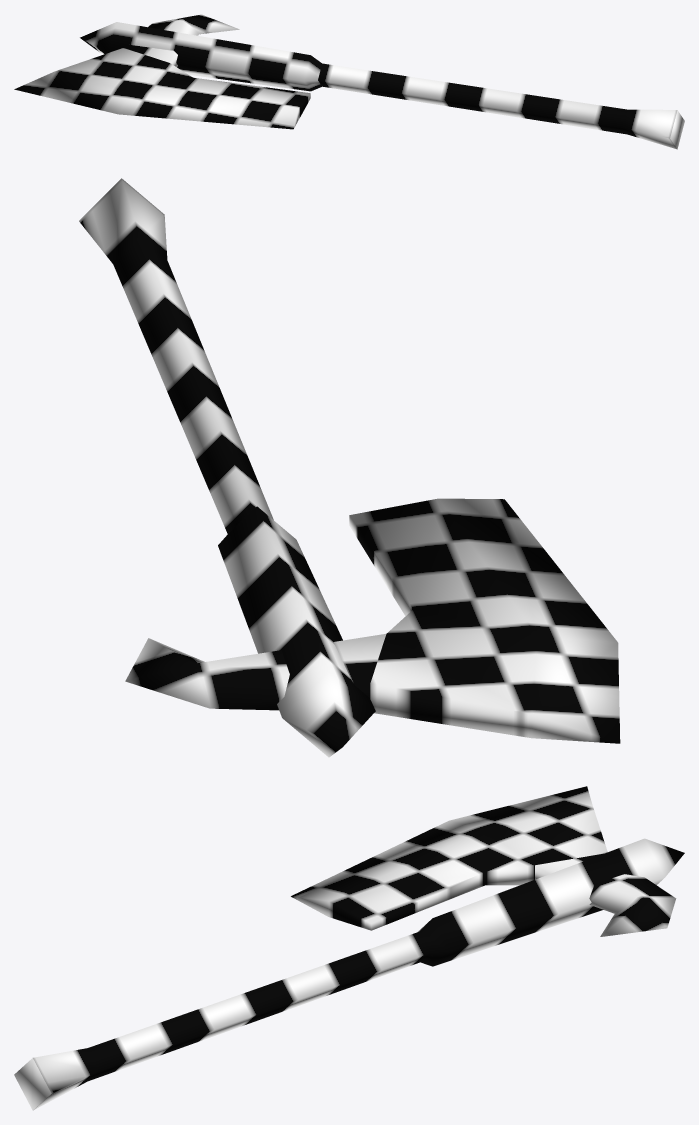
Rendered from initweax3.dae.
3 renders of one model, top to bottom at view 1: azimuth 30°, elevation 25°; view 2: azimuth 150°, elevation 25°; view 3: azimuth 270°, elevation 25°, orthographic. The views are drawn at different scales.
Visible parts, largest first — view 1: weapon; view 2: weapon; view 3: weapon.
Part boxes in pixels (x1,y1,x2,y2): weapon: (14, 14, 684, 149); weapon: (79, 178, 620, 757); weapon: (14, 786, 684, 1110).
Bounding box in the file's own units: 2.15 × 1.98 × 0.1879.
Materials: 1 (1 with a texture image).
